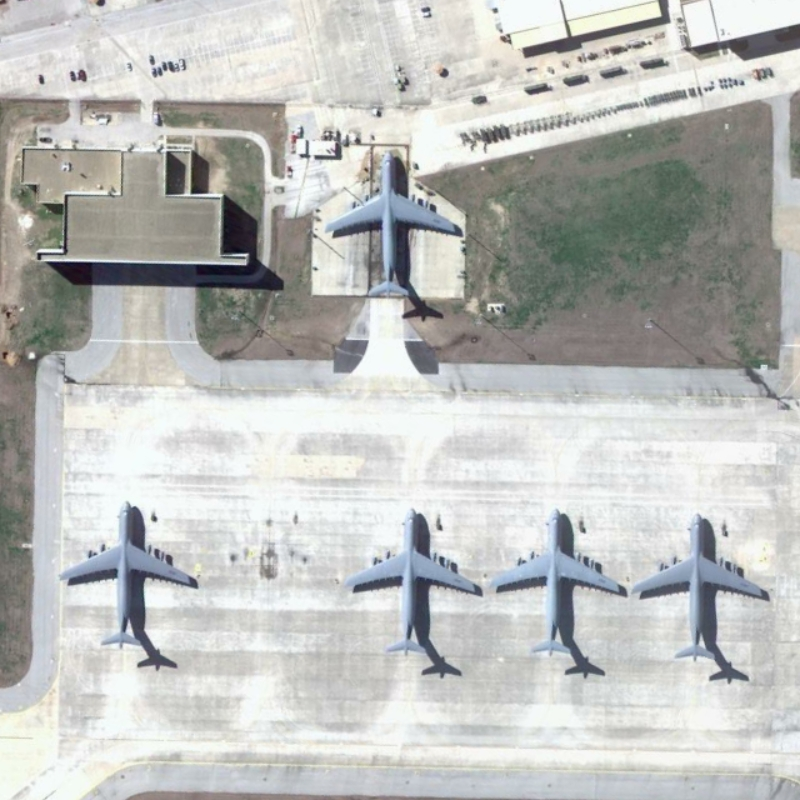A4: (54, 497, 205, 656), (627, 506, 770, 670), (336, 500, 482, 659), (487, 501, 625, 660), (324, 146, 461, 306)
